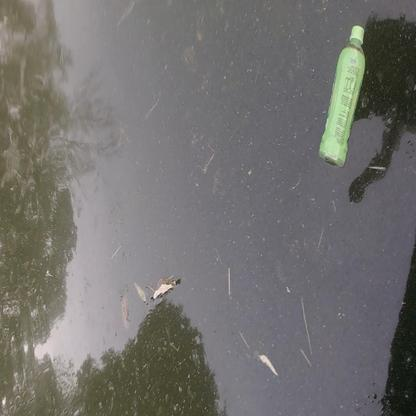plastic bottle: (318, 24, 366, 167)
